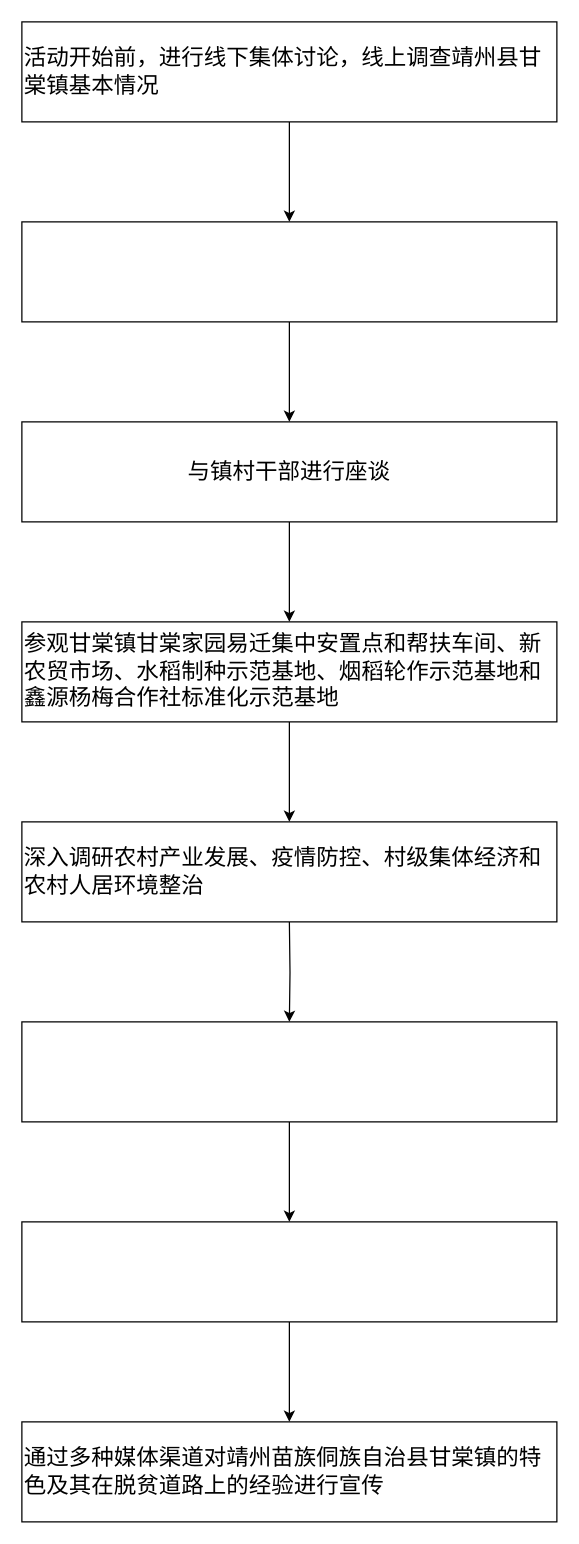
This 579x1544 diagram has some shape labels left out. Each missing label, with the centre of its shape:
"与甘棠镇党委书记余秋松同志座谈，提出团队 关于甘棠镇乡村振兴问题的一些的意见和看法" belongs at pixel 289 1271.
"入户走访甘棠镇建国村、乐群村、塘头村、甘棠村等村的农户" belongs at pixel 289 271.
"结合专业知识为农村道路规划提供相关建议" belongs at pixel 289 1071.
